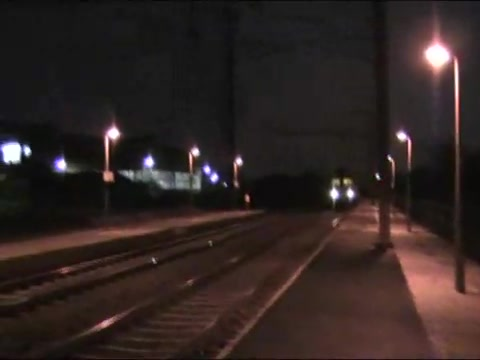train: (327, 173, 361, 210)
